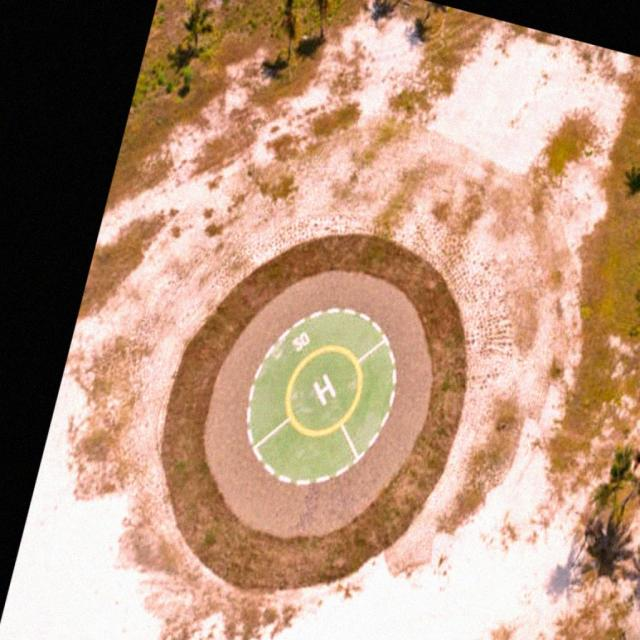helipad: (280, 342, 366, 439)
